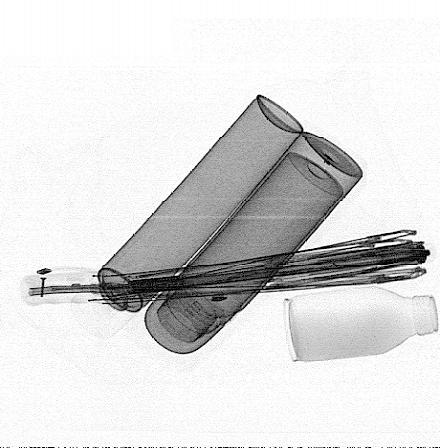Sprayer: (65, 93, 305, 344)
